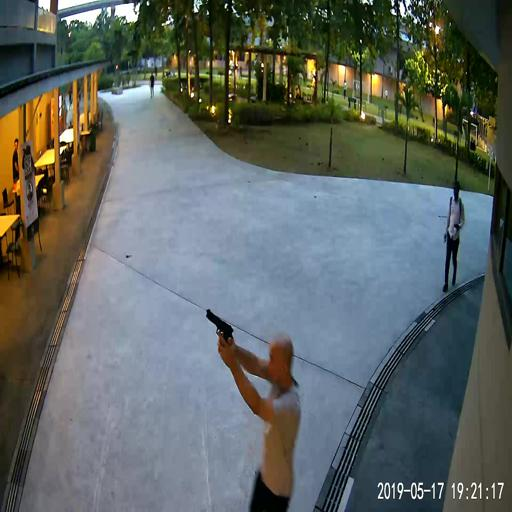pistol: (205, 308, 234, 354)
